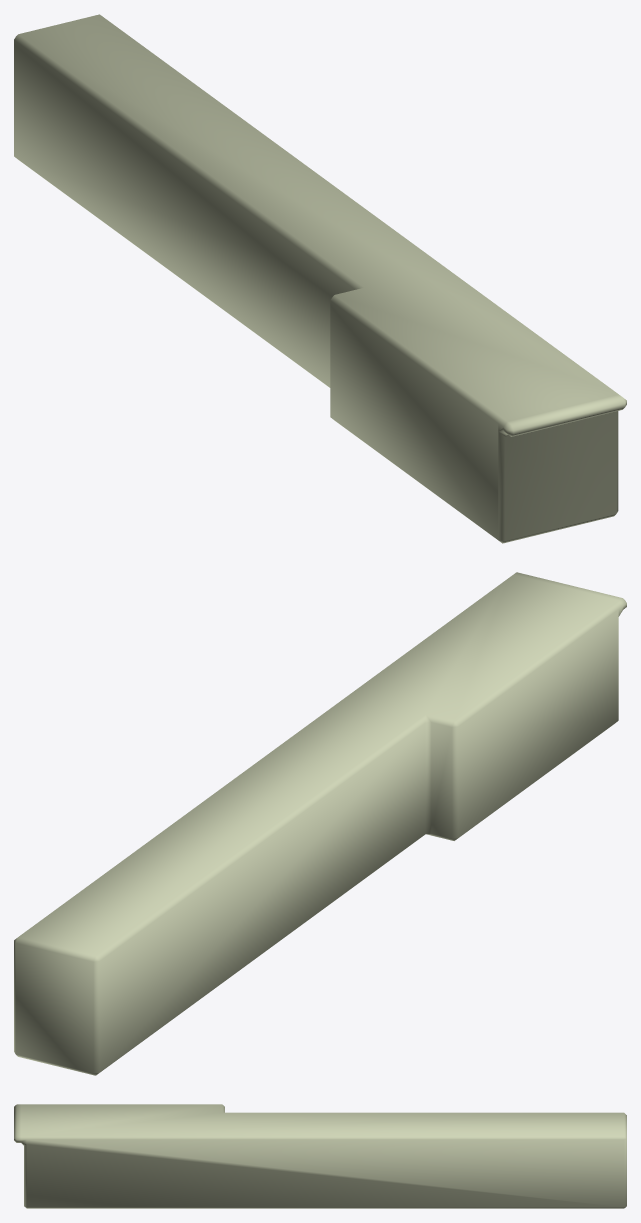
Rendered from keyLeftIndent.obj.
The picture shows the model from 3 angles, top to bottom: view 1: azimuth 30°, elevation 25°; view 2: azimuth 150°, elevation 25°; view 3: azimuth 270°, elevation 25°; orthographic projection. The views are drawn at different scales.
Parts seen in each view (by area): view 1: keyLeftIndent; view 2: keyLeftIndent; view 3: keyLeftIndent.
Boxes of the visible parts, box(x1,y1,x2,y2) form: keyLeftIndent: box(14, 14, 626, 543); keyLeftIndent: box(14, 572, 626, 1075); keyLeftIndent: box(14, 1104, 626, 1208).
Bounding box in the file's own units: 2 × 2 × 15.25.
